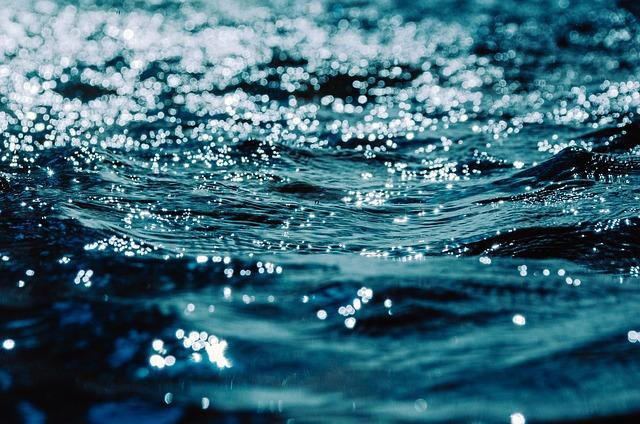Non_Gorille: (100, 63, 560, 372)
